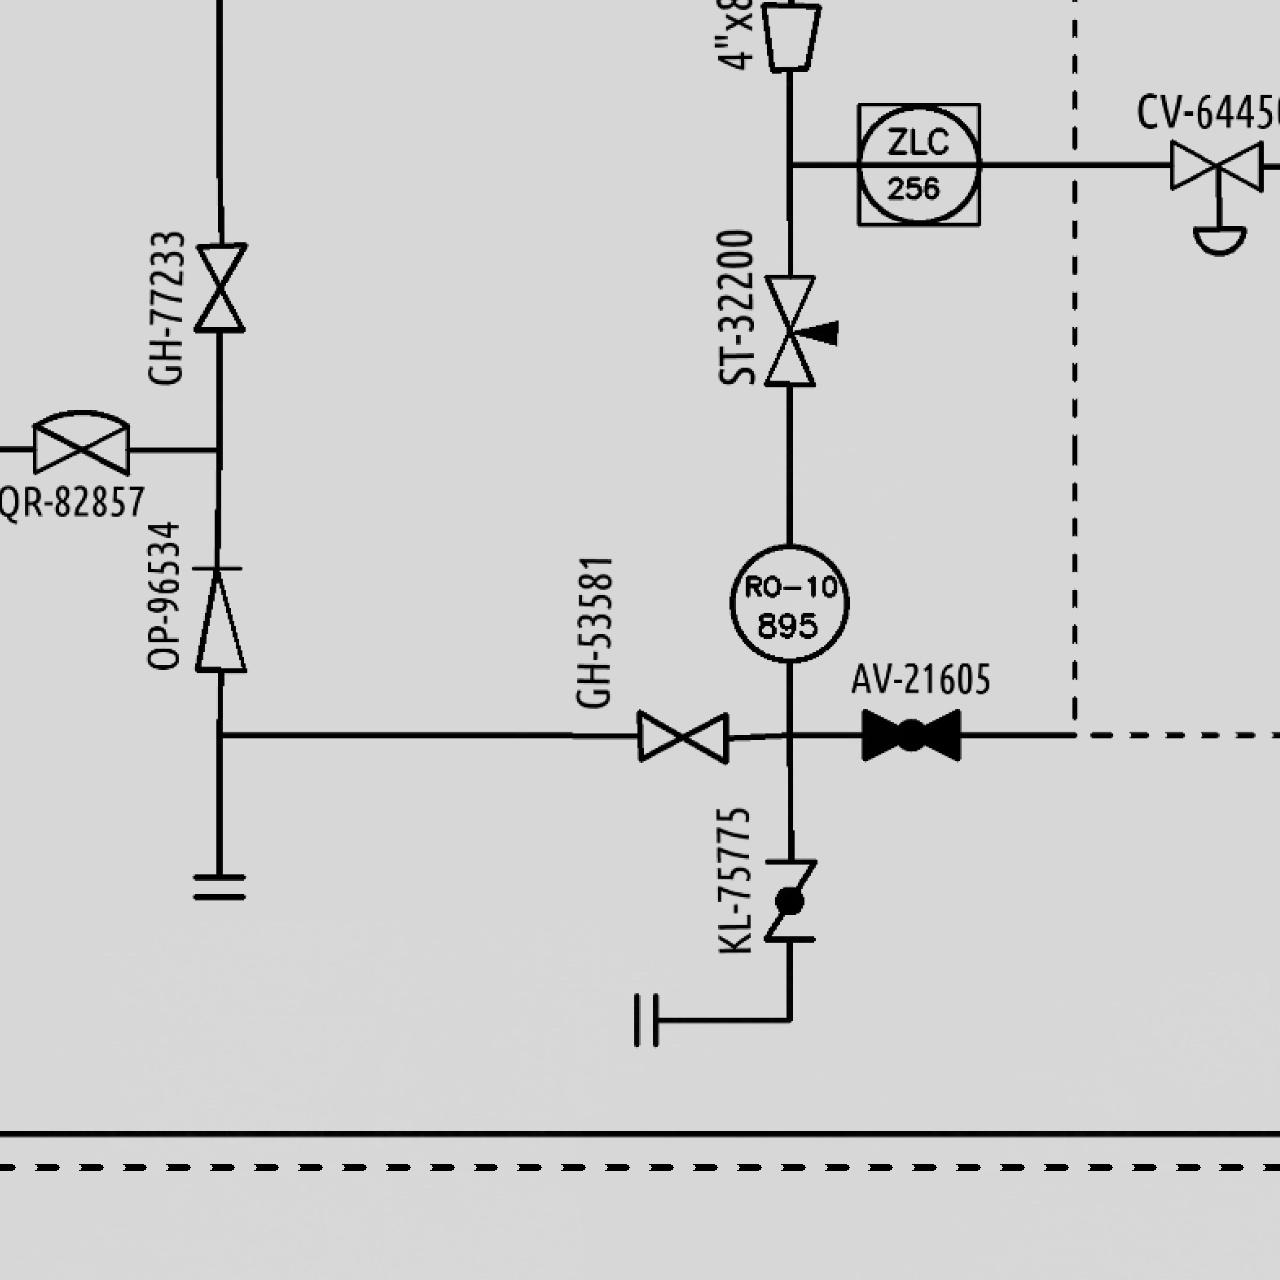Control-Panel: (726, 539, 852, 666)
